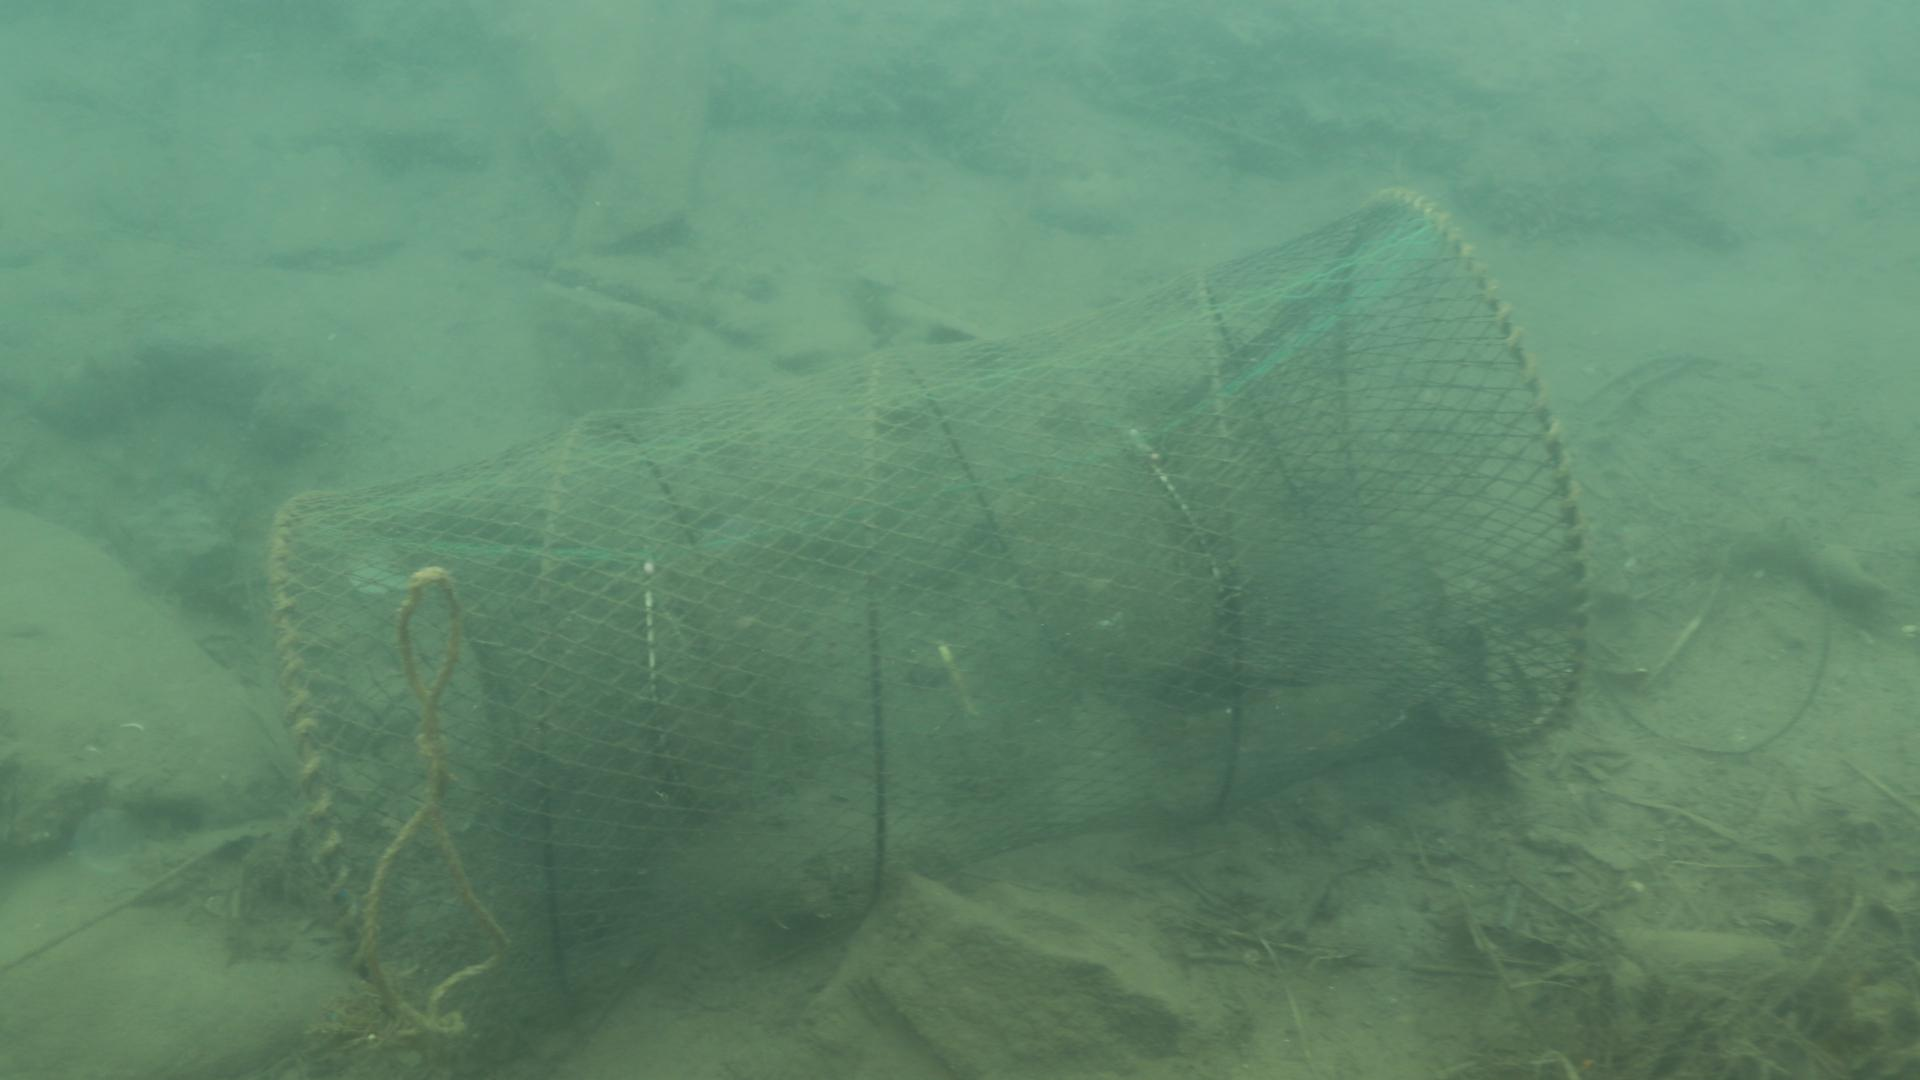bundle of ropes: (340, 556, 510, 1040)
spring fish trap: (265, 185, 1588, 996)
